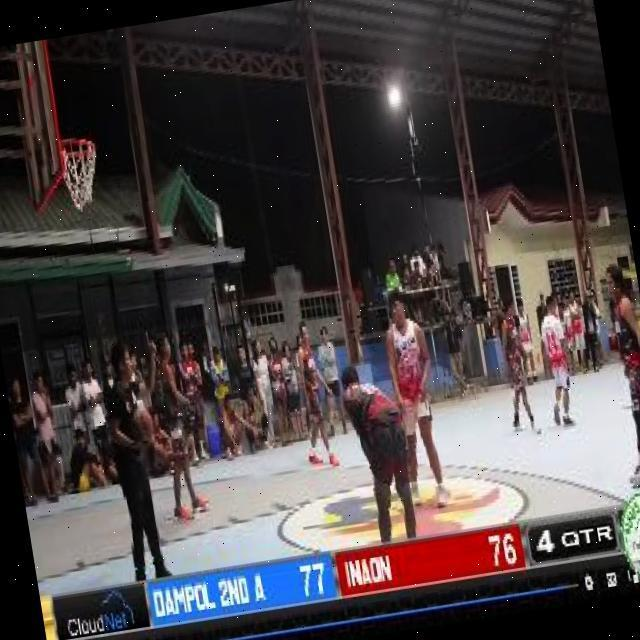ball: (125, 402, 158, 452)
hoop: (63, 137, 102, 164)
